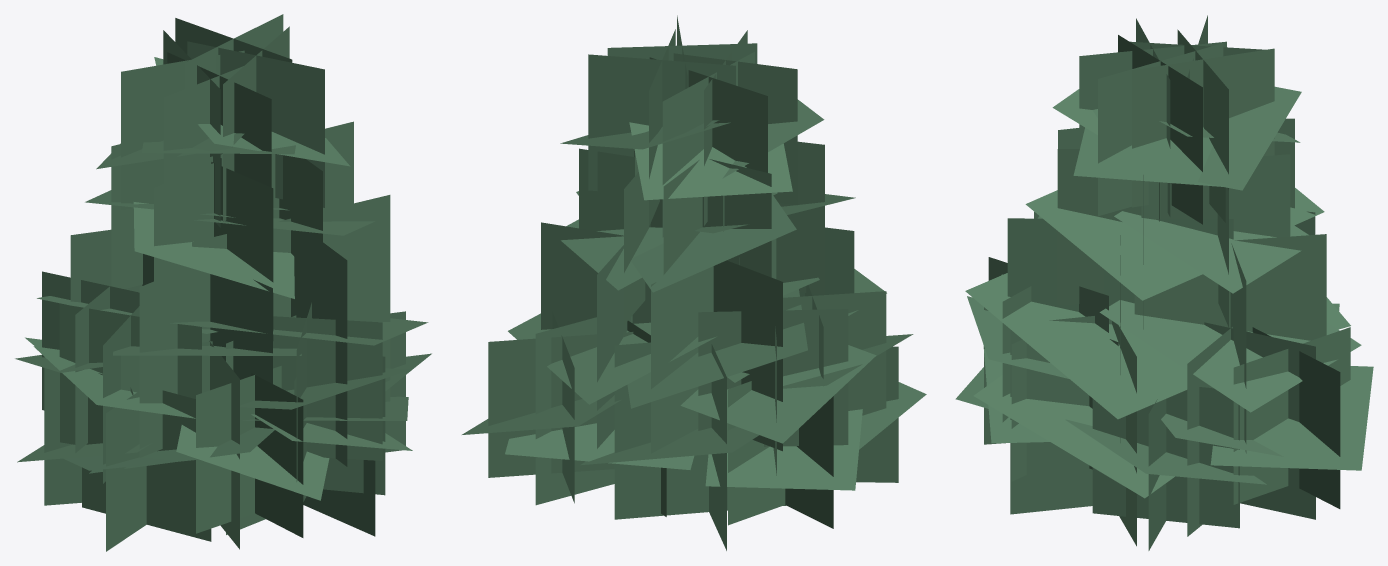
The model's file is pin_1_loin.glb.
The picture shows the model from 3 angles, left to right: view 1: azimuth 30°, elevation 25°; view 2: azimuth 150°, elevation 25°; view 3: azimuth 270°, elevation 25°; orthographic projection.
Parts seen in each view (by area): view 1: Pin_T1_Leger_Loin; view 2: Pin_T1_Leger_Loin; view 3: Pin_T1_Leger_Loin.
Part boxes in pixels (<box>): Pin_T1_Leger_Loin: <box>15,14,431,551</box>; Pin_T1_Leger_Loin: <box>462,15,926,550</box>; Pin_T1_Leger_Loin: <box>955,15,1373,550</box>.
Size of the model in its own units: 7.43 by 8.25 by 7.21.
